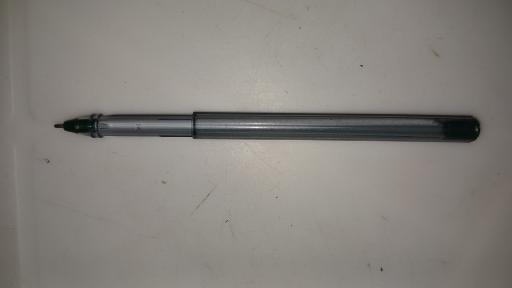pen: (52, 111, 484, 139)
